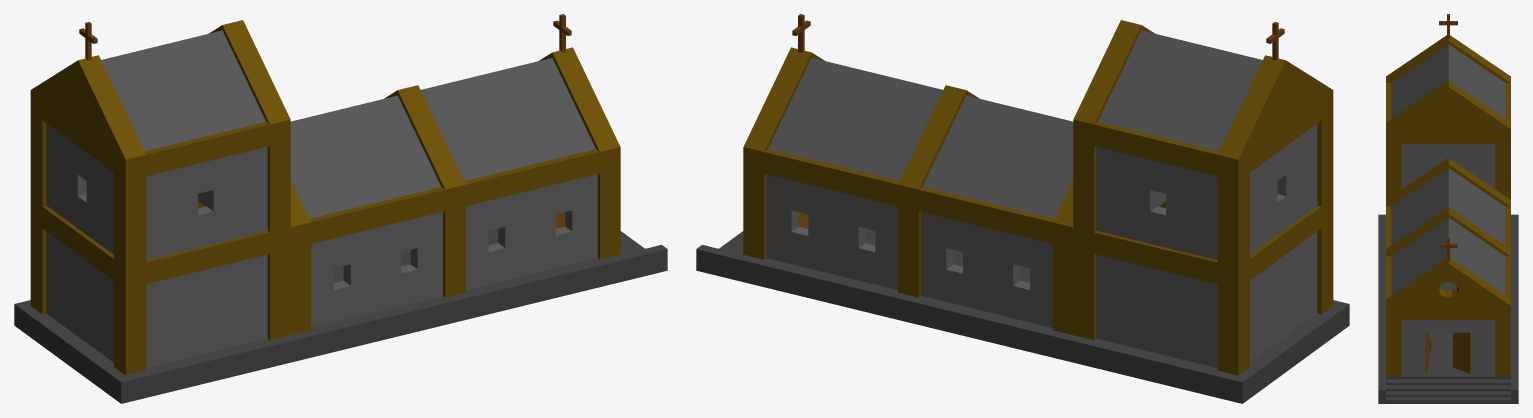
The model's file is Church.fbx.
The picture shows the model from 3 angles, left to right: view 1: azimuth 30°, elevation 25°; view 2: azimuth 150°, elevation 25°; view 3: azimuth 270°, elevation 25°; orthographic projection. The views are drawn at different scales.
Visible parts, largest first — view 1: Base, Plane.002, Plane.004, Plane, Cube.036, Cube.035, Cube.042, Cube.044, Cube.002, Cube.032, Cube.043, Cube.025 (+14 smaller); view 2: Base, Plane.001, Plane.005, Plane.003, Cube.034, Cube.037, Cube.016, Cube.038, Cube.001, Cube.032, Cube.043, Cube.025 (+14 smaller); view 3: Base, Cube.024, Cube.029, Cube.033, Cube.028, Plane.004, Plane.005, Plane.001, Plane.002, Plane, Plane.003, Cube.010 (+18 smaller).
Part boxes in pixels (left/top/right/bottom): Base: left=14, top=228, right=667, bottom=403; Plane.002: left=421, top=58, right=595, bottom=180; Plane.004: left=290, top=95, right=441, bottom=218; Plane: left=101, top=30, right=265, bottom=150; Cube.036: left=311, top=212, right=442, bottom=327; Cube.035: left=466, top=174, right=597, bottom=289; Cube.042: left=146, top=254, right=267, bottom=367; Cube.044: left=146, top=147, right=267, bottom=260; Cube.002: left=114, top=151, right=146, bottom=375; Cube.032: left=46, top=231, right=113, bottom=362; Cube.043: left=46, top=124, right=113, bottom=254; Cube.025: left=31, top=55, right=145, bottom=159; Base: left=696, top=228, right=1349, bottom=403; Plane.001: left=768, top=58, right=942, bottom=180; Plane.005: left=922, top=95, right=1073, bottom=218; Plane.003: left=1098, top=30, right=1262, bottom=150; Cube.034: left=921, top=212, right=1052, bottom=327; Cube.037: left=766, top=174, right=897, bottom=289; Cube.016: left=1096, top=254, right=1217, bottom=367; Cube.038: left=1096, top=147, right=1217, bottom=260; Cube.001: left=1217, top=151, right=1249, bottom=375; Cube.032: left=1250, top=231, right=1317, bottom=362; Cube.043: left=1250, top=124, right=1317, bottom=254; Cube.025: left=1218, top=55, right=1332, bottom=159; Base: left=1378, top=214, right=1518, bottom=403; Cube.024: left=1386, top=80, right=1510, bottom=129; Cube.029: left=1386, top=258, right=1510, bottom=305; Cube.033: left=1401, top=320, right=1495, bottom=375; Cube.028: left=1401, top=143, right=1495, bottom=188; Plane.004: left=1391, top=168, right=1448, bottom=245; Plane.005: left=1448, top=168, right=1505, bottom=245; Plane.001: left=1448, top=218, right=1505, bottom=295; Plane.002: left=1391, top=218, right=1448, bottom=295; Plane: left=1391, top=44, right=1448, bottom=118; Plane.003: left=1448, top=44, right=1505, bottom=118; Cube.010: left=1401, top=129, right=1495, bottom=143.
Bounding box in the file's own units: 2120 × 1248 × 720.
